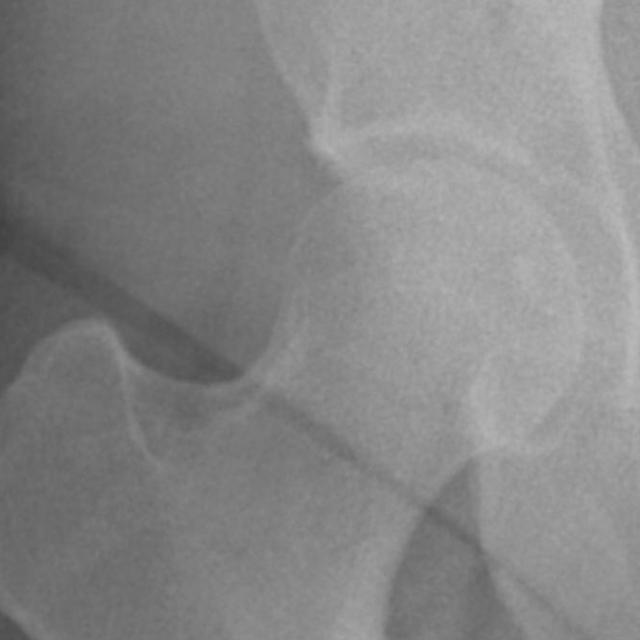Fitted_femural_head: (317, 163, 432, 317)
